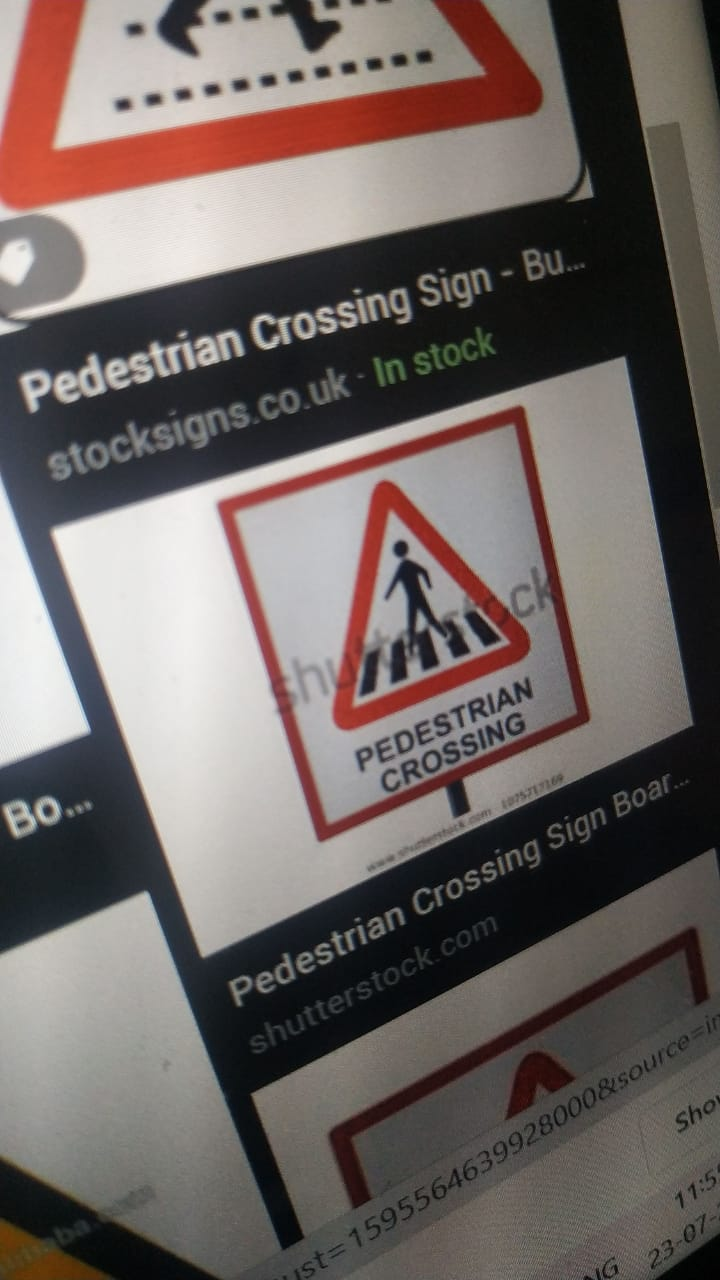PEDESTRIAN CROSSING: (209, 396, 644, 823)
